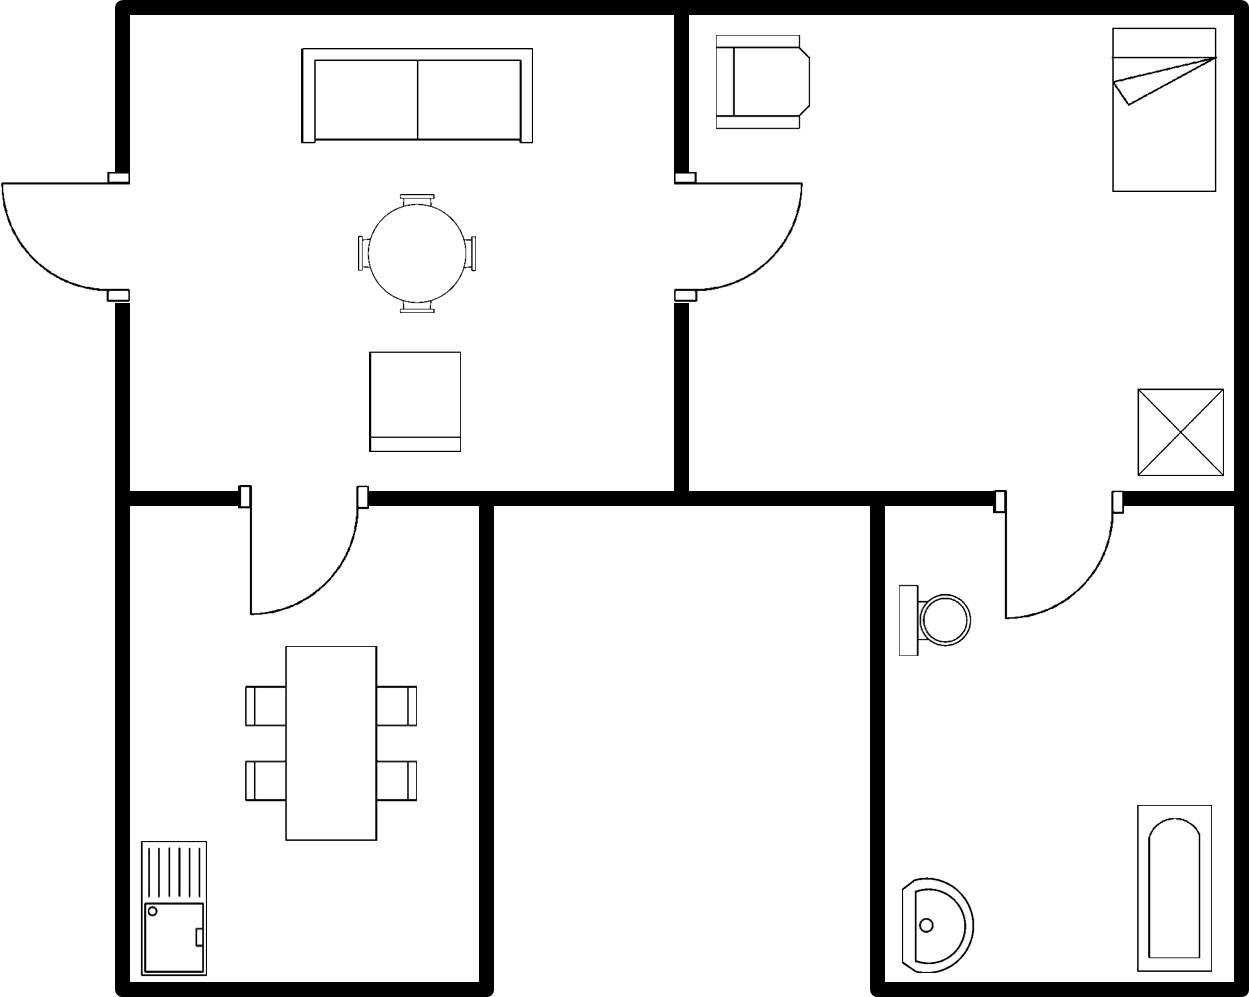armchair: (708, 28, 817, 137), (893, 580, 977, 665)
bed: (1107, 22, 1224, 198)
coffee_table: (1129, 382, 1229, 483)
dining_table: (238, 639, 423, 848)
large_sofa: (293, 40, 541, 153)
round_table: (349, 186, 486, 319)
sink: (136, 834, 216, 981)
small_sink: (894, 871, 982, 978)
small_sofa: (359, 340, 467, 461)
tub: (1130, 797, 1221, 977)
